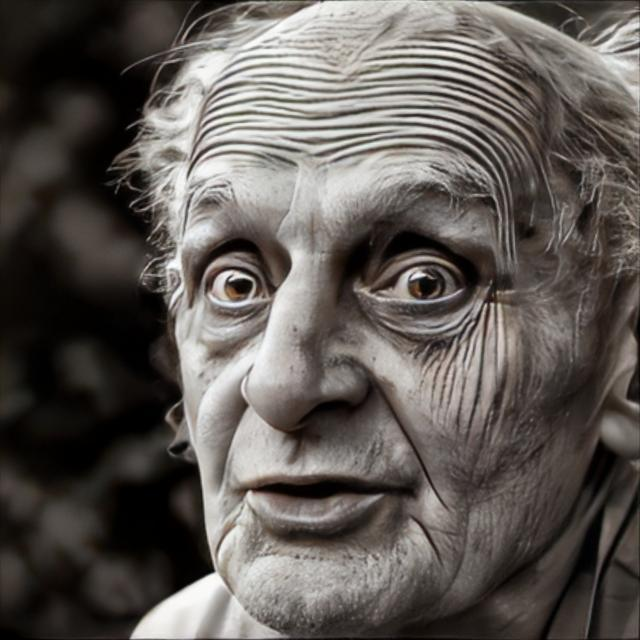surprise: (173, 4, 598, 634)
